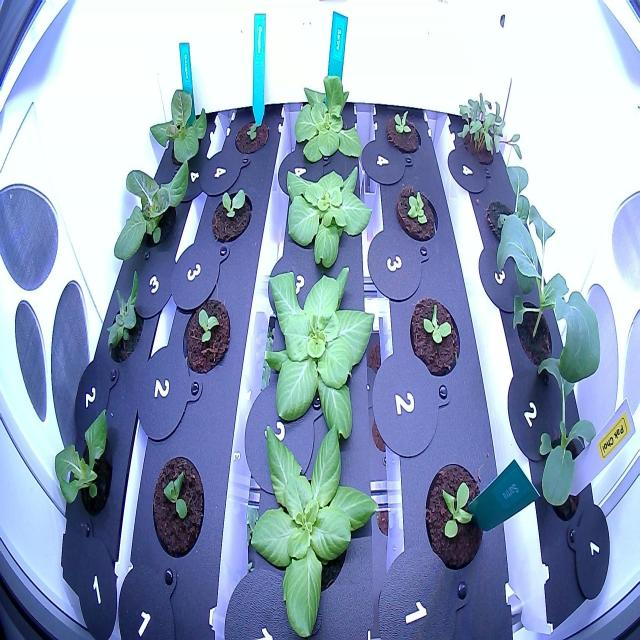germination: (145, 445, 208, 561), (178, 290, 234, 376), (207, 180, 253, 245), (233, 109, 272, 163)
young: (245, 422, 379, 640), (256, 253, 380, 447), (279, 154, 373, 275), (107, 152, 194, 270), (419, 449, 488, 578), (51, 402, 119, 532), (284, 67, 366, 166), (150, 77, 212, 181), (97, 266, 148, 374), (402, 290, 462, 379), (388, 176, 442, 247), (382, 104, 425, 163)
